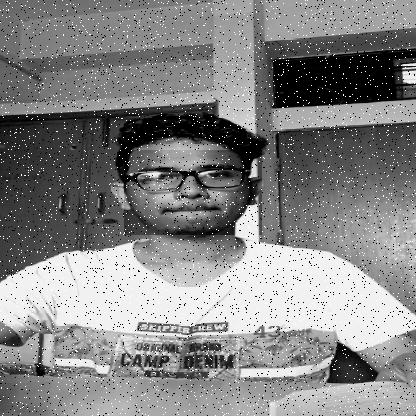Normal: (124, 150, 262, 235)
